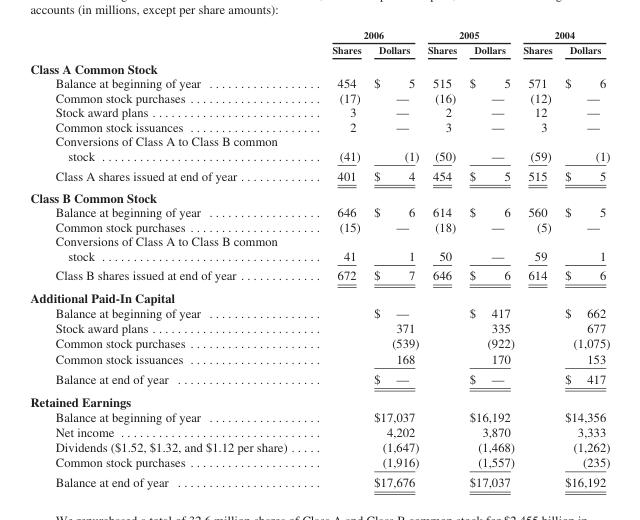table: (29, 28, 609, 489)
table column: (29, 28, 309, 489), (309, 28, 366, 489), (366, 28, 422, 489), (462, 28, 518, 489), (557, 28, 609, 489), (422, 28, 462, 489), (518, 28, 557, 489)
table column header: (29, 28, 609, 58)
table projected row header: (29, 286, 609, 305), (29, 389, 609, 408), (29, 186, 609, 204), (29, 58, 609, 75)
table row: (29, 133, 609, 165), (29, 233, 609, 265), (29, 165, 609, 186), (29, 265, 609, 286), (29, 368, 609, 389), (29, 286, 609, 305), (29, 389, 609, 408), (29, 186, 609, 204), (29, 350, 609, 368), (29, 471, 609, 489), (29, 58, 609, 75), (29, 454, 609, 471), (29, 42, 609, 58), (29, 423, 609, 439), (29, 75, 609, 90), (29, 104, 609, 119), (29, 204, 609, 219), (29, 305, 609, 320), (29, 320, 609, 335), (29, 335, 609, 350), (29, 408, 609, 423), (29, 439, 609, 454), (29, 28, 609, 42), (29, 90, 609, 104), (29, 119, 609, 133), (29, 219, 609, 233)
table spanning cell: (309, 28, 422, 42), (422, 28, 518, 42), (518, 28, 609, 42)
